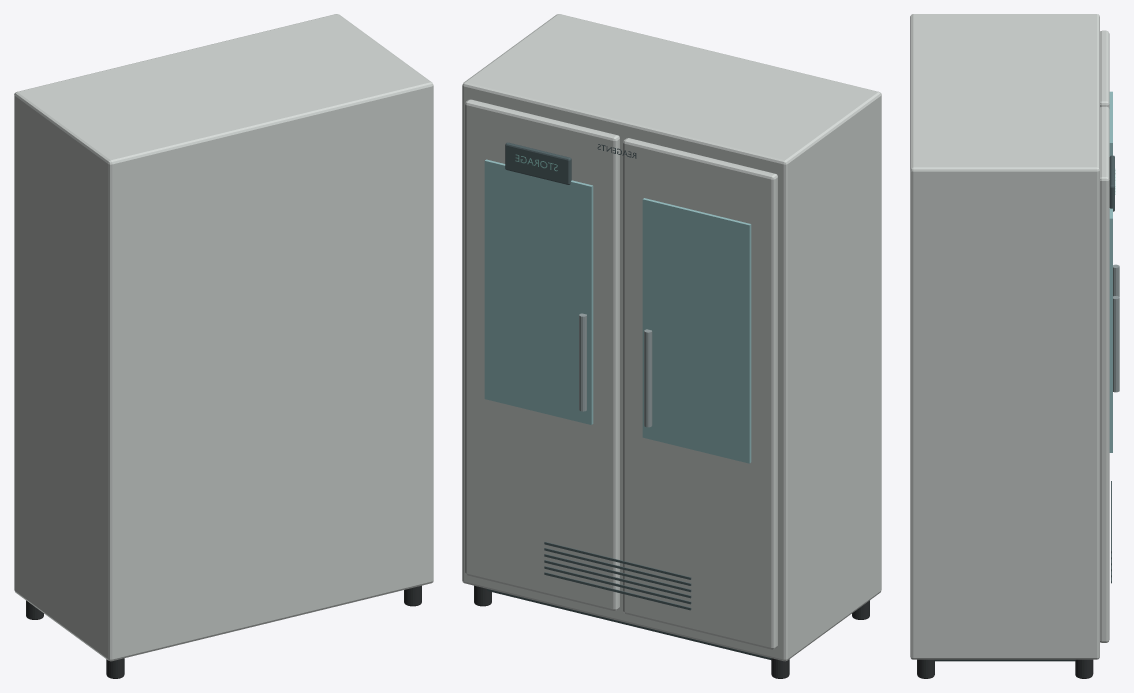
File: ReagentCabinet.fbx
3 views of the same model, side by side, from view 1: azimuth 30°, elevation 25°; view 2: azimuth 150°, elevation 25°; view 3: azimuth 270°, elevation 25° (orthographic).
Visible parts, largest first — view 1: ReagentCabinet; view 2: ReagentCabinet; view 3: ReagentCabinet.
Part boxes in pixels (left/top/right/bottom): ReagentCabinet: left=14, top=14, right=433, bottom=678; ReagentCabinet: left=462, top=14, right=881, bottom=678; ReagentCabinet: left=910, top=14, right=1119, bottom=678.
Size of the model in its own units: 140 by 215 by 79.5.
